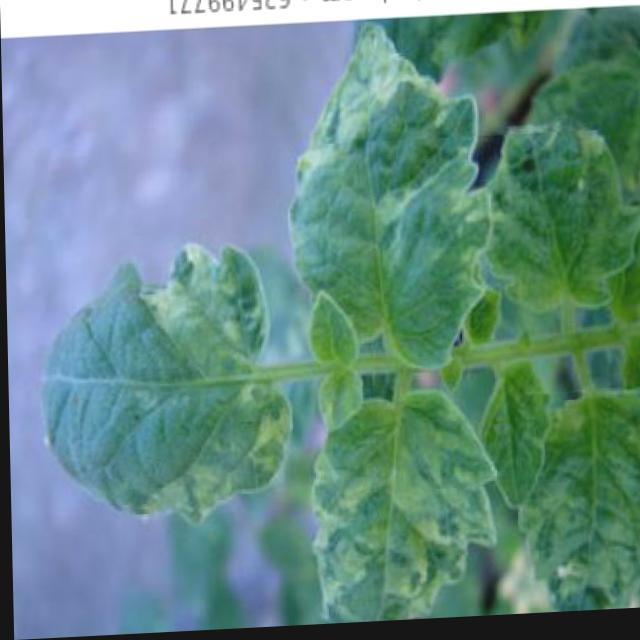Tomato yellow virus leaf: (27, 238, 290, 537), (288, 30, 504, 377), (298, 387, 499, 627), (474, 114, 639, 335), (508, 368, 639, 619)
